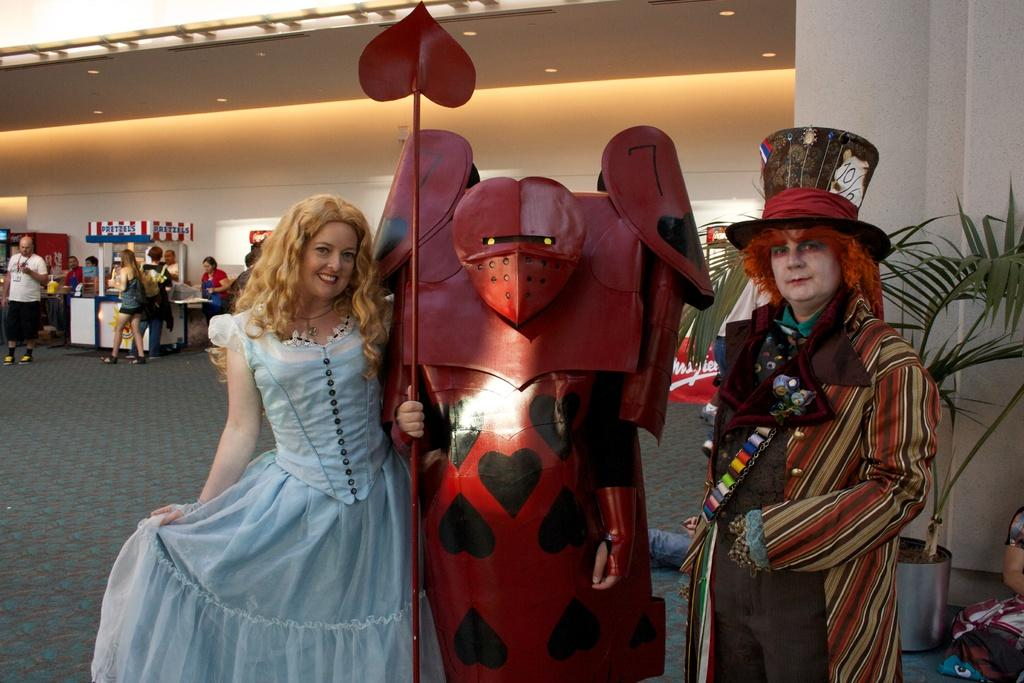Hat: (722, 125, 892, 268)
